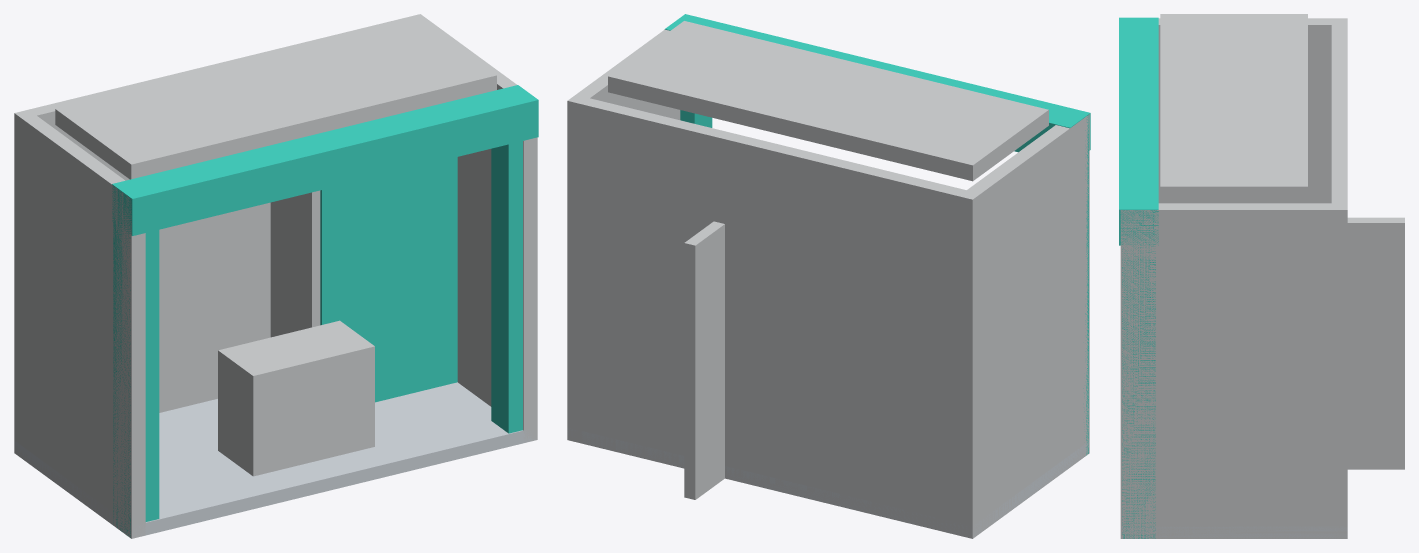
The picture shows the model from 3 angles, left to right: view 1: azimuth 30°, elevation 25°; view 2: azimuth 150°, elevation 25°; view 3: azimuth 270°, elevation 25°; orthographic projection. The views are drawn at different scales.
Visible parts, largest first — view 1: Exhibition Booth Concept; view 2: Exhibition Booth Concept; view 3: Exhibition Booth Concept.
Boxes of the visible parts, bbox=[...] form: Exhibition Booth Concept: bbox=[14, 14, 538, 538]; Exhibition Booth Concept: bbox=[567, 14, 1090, 538]; Exhibition Booth Concept: bbox=[1119, 14, 1404, 538].
Bounding box in the file's own units: 4 × 3.34 × 2.52.
